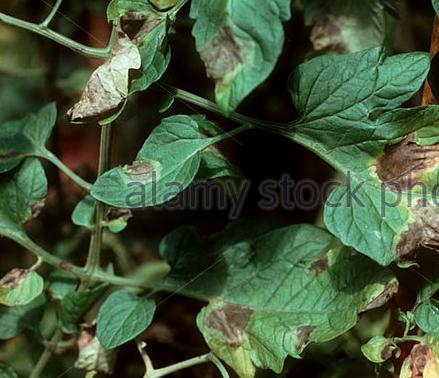Tomato leaf late blight: (156, 219, 402, 374), (282, 48, 439, 274), (53, 0, 184, 119), (86, 112, 214, 223), (362, 299, 439, 378)
